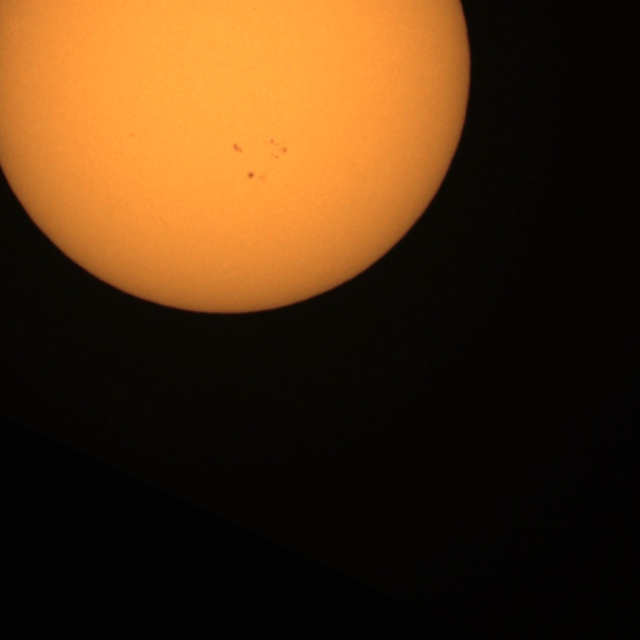sunspot: (268, 138, 288, 159), (246, 170, 268, 183), (231, 142, 243, 154), (246, 170, 256, 180)
